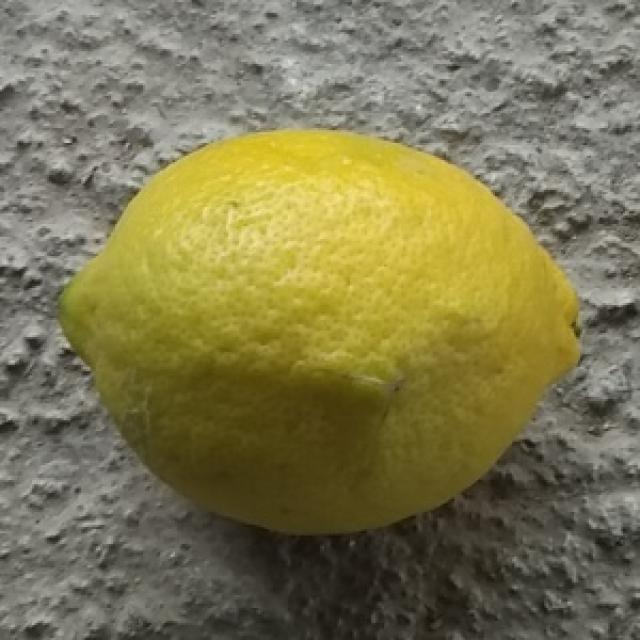Ripe: (60, 126, 585, 542)
